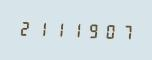nine: (81, 20, 96, 40)
one: (33, 18, 48, 39), (65, 19, 80, 40), (49, 19, 64, 39)
seven: (113, 21, 128, 41)
two: (17, 17, 32, 38)
zero: (97, 20, 112, 41)
